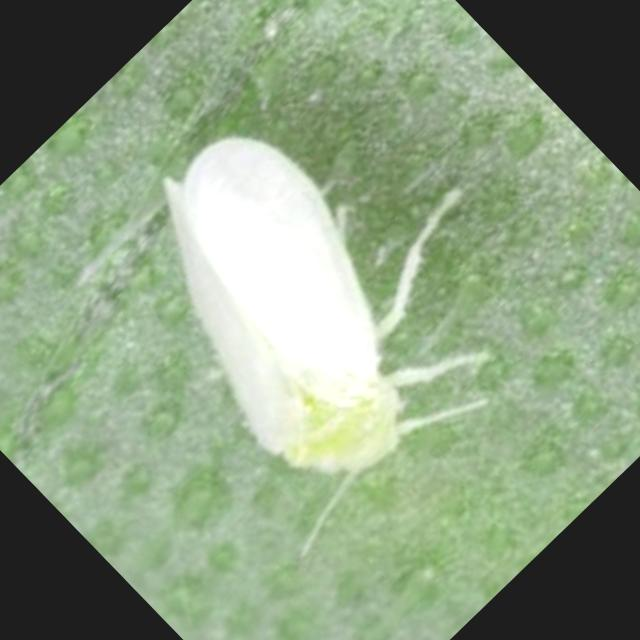Silverleaf whitefly: (19, 42, 584, 608)
